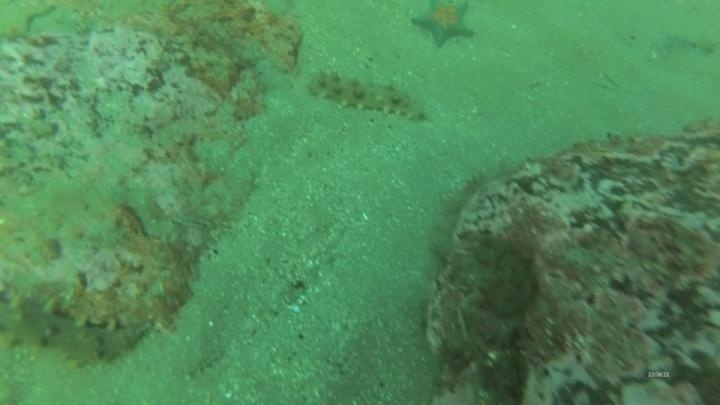holothurian: (0, 291, 154, 372), (304, 66, 430, 125), (648, 28, 718, 60)
starfish: (408, 0, 479, 50)
